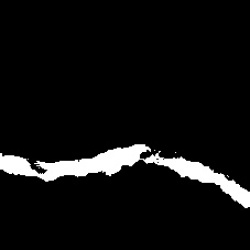crack: (1, 144, 249, 209)
